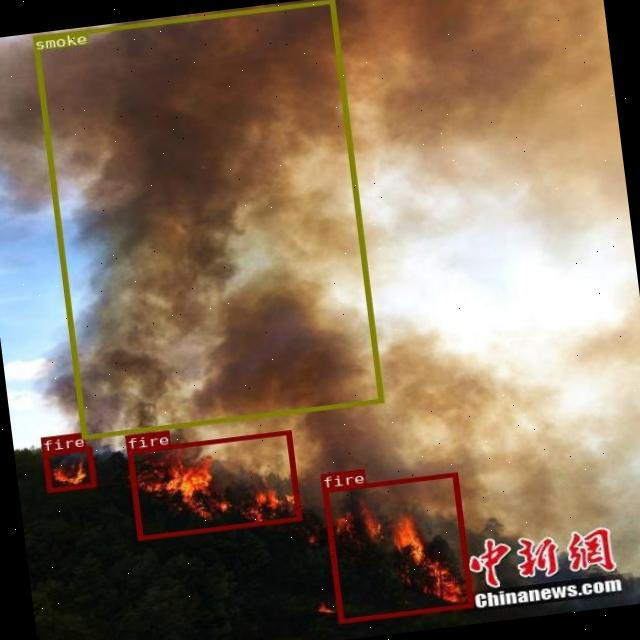fire: (320, 472, 472, 624), (126, 429, 301, 538), (41, 446, 95, 492)
smoke: (32, 0, 382, 439)
